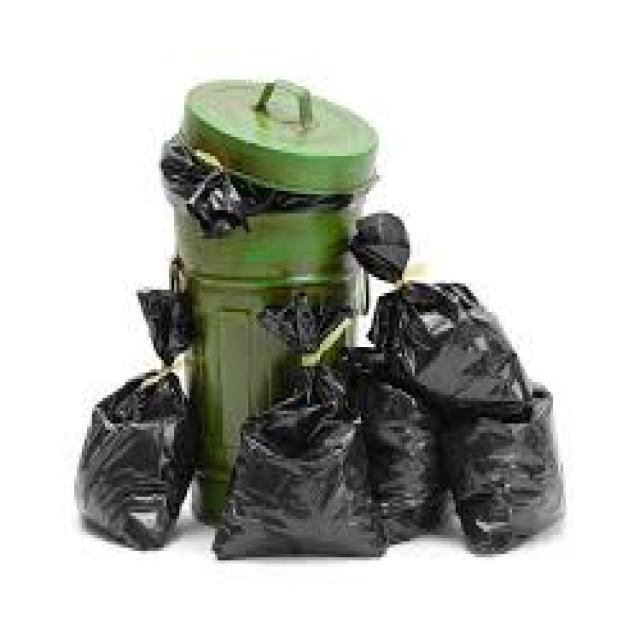garbage: (74, 284, 556, 558), (138, 126, 267, 240)
